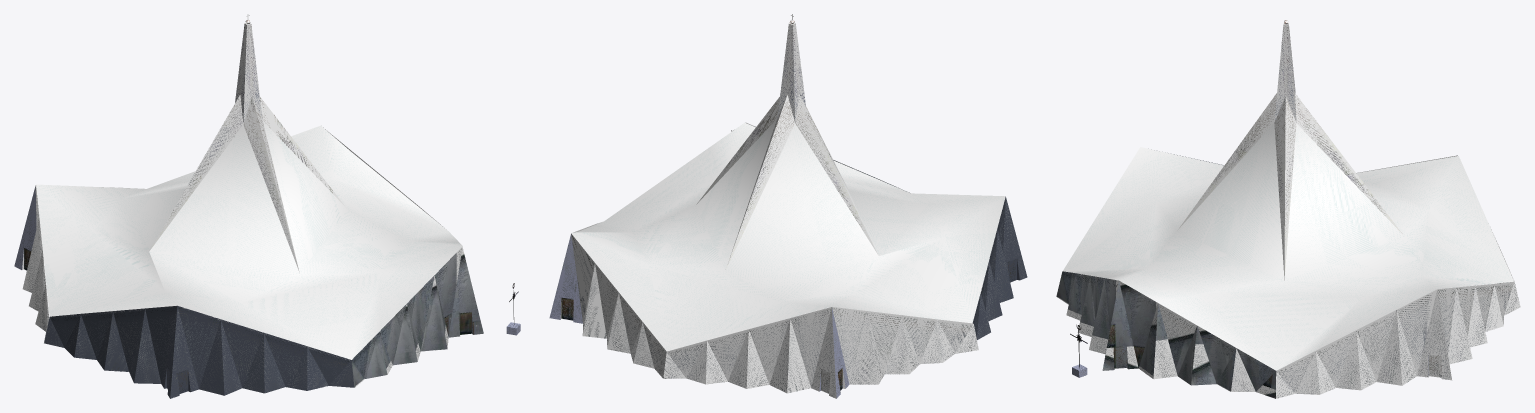
Rendered from lupe.fbx.
The picture shows the model from 3 angles, left to right: view 1: azimuth 30°, elevation 25°; view 2: azimuth 150°, elevation 25°; view 3: azimuth 270°, elevation 25°; orthographic projection.
Visible parts, largest first — view 1: Model, pared4, pared1, pared3; view 2: Model, pared3, pared2, pared4; view 3: Model, pared2, pared1.
Part boxes in pixels (bbox=[...]): Model: bbox=[36, 14, 520, 359]; pared4: bbox=[44, 305, 354, 398]; pared1: bbox=[351, 247, 483, 387]; pared3: bbox=[14, 185, 144, 342]; Model: bbox=[571, 14, 1005, 351]; pared3: bbox=[663, 307, 978, 398]; pared2: bbox=[549, 222, 666, 378]; pared4: bbox=[972, 196, 1027, 339]; Model: bbox=[1063, 20, 1513, 377]; pared2: bbox=[1276, 282, 1520, 398]; pared1: bbox=[1056, 271, 1276, 398].
Size of the model in its own units: 51.39 by 35.44 by 51.99.
